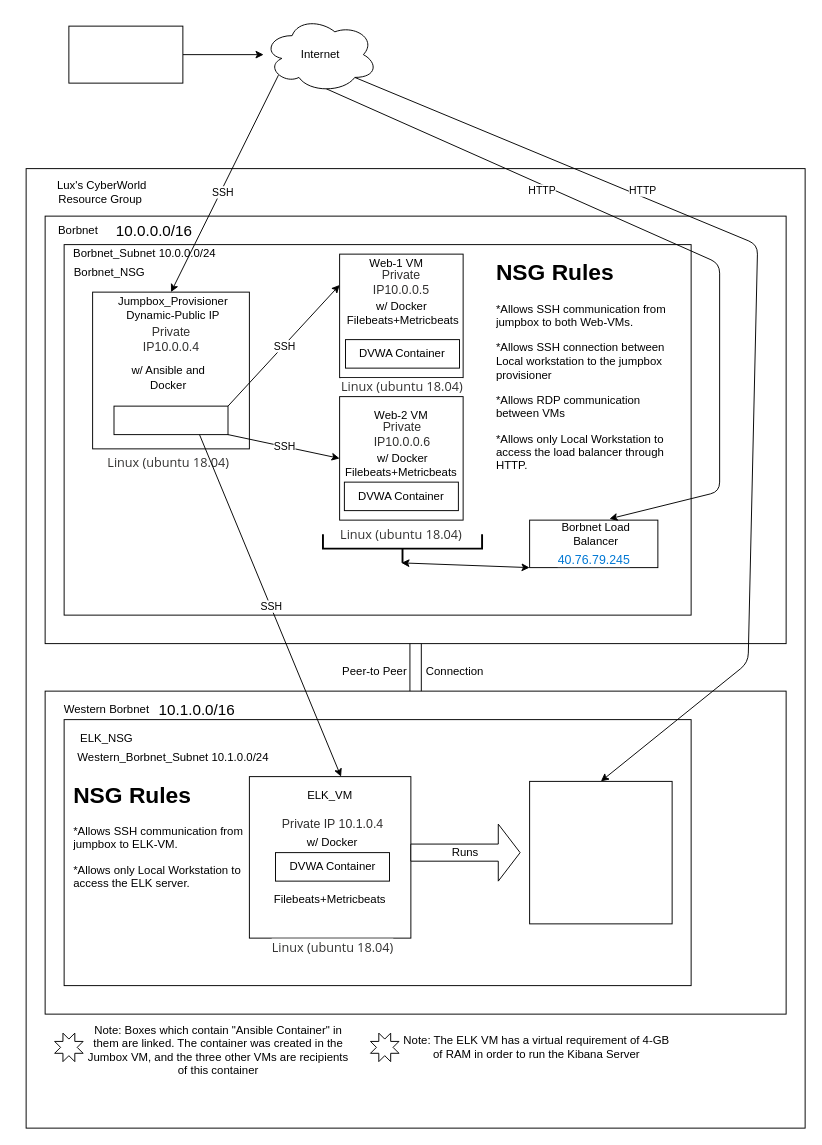
Image size: 822x1145. Some labels were removed from this diagram. Here are the shapes that lost their labels. From the top down, the centre of each, then its label:
At point 125,54: "Local Workstation".
At point 170,420: "Ansible Container".
At point 600,852: "Kibana Server".
